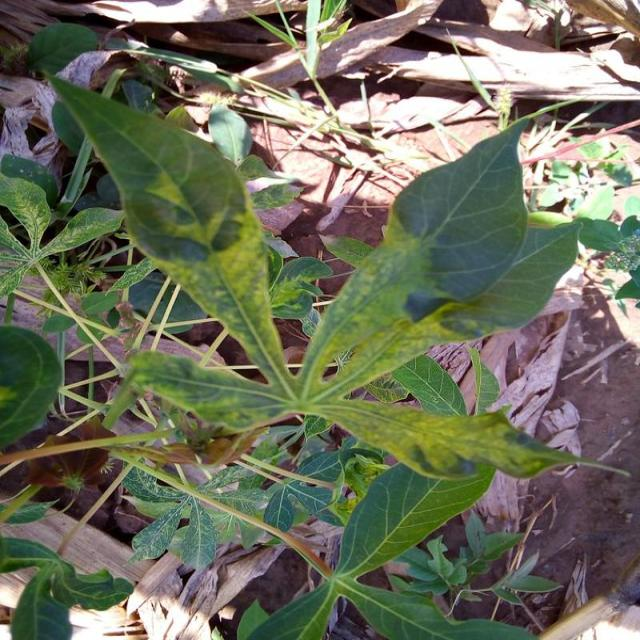cassava leaf: (44, 66, 296, 397), (297, 113, 580, 405)
